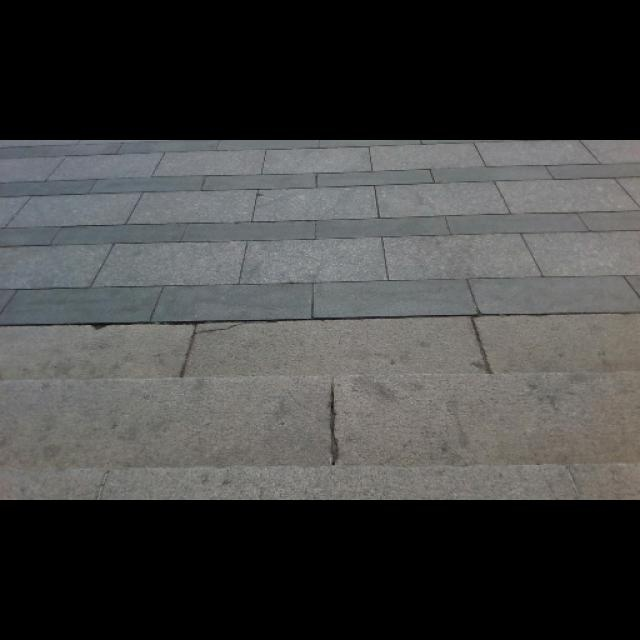stair: (0, 315, 638, 496)
